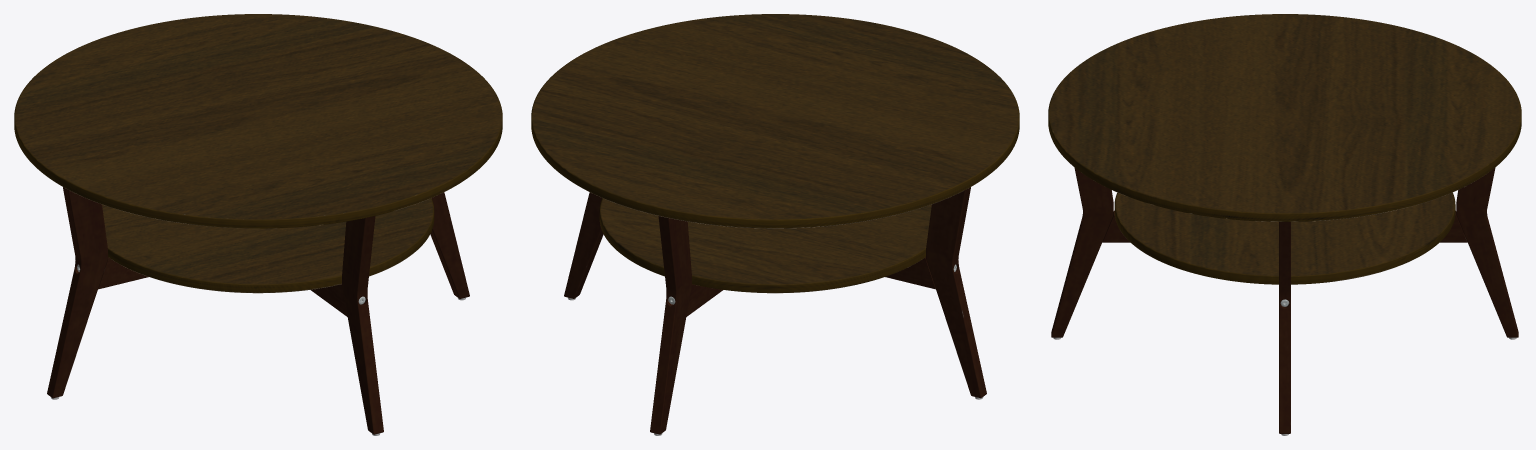
The model's file is 11 - JAKOBSFORS Coffee table - dark brown stained oak veneer 80 cm.glb.
3 renders of one model, left to right at view 1: azimuth 30°, elevation 25°; view 2: azimuth 150°, elevation 25°; view 3: azimuth 270°, elevation 25°, orthographic. The views are drawn at different scales.
Parts seen in each view (by area): view 1: model; view 2: model; view 3: model.
Boxes of the visible parts, x1,y1,x2,y2 form: model: (14, 14, 502, 435); model: (531, 14, 1019, 435); model: (1048, 14, 1521, 435).
Bounding box in the file's own units: 0.7996 × 0.418 × 0.7996.
1 material, 1 textured.
